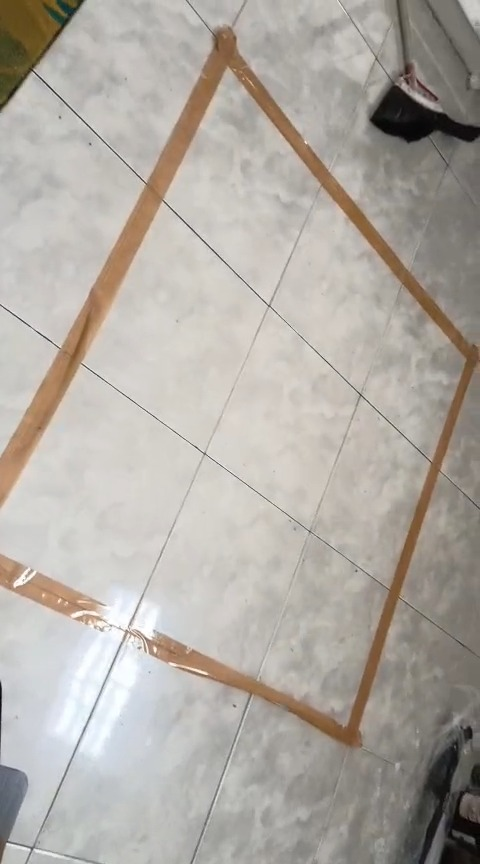floor marking: (1, 28, 478, 745)
